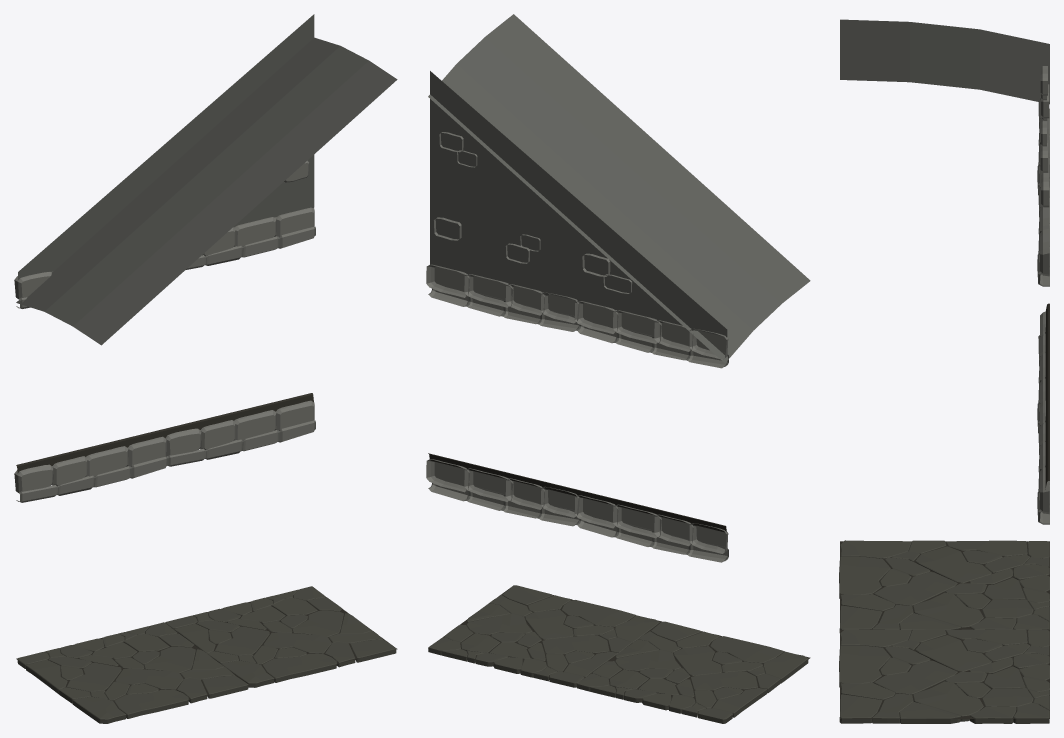
The model's file is Dungeon_Hall_Wall_Stairs_Left.glb.
3 views of the same model, side by side, from view 1: azimuth 30°, elevation 25°; view 2: azimuth 150°, elevation 25°; view 3: azimuth 270°, elevation 25° (orthographic). The views are drawn at different scales.
Parts seen in each view (by area): view 1: Dungeon_Hall_Wall_Stairs_Left.001; view 2: Dungeon_Hall_Wall_Stairs_Left.001; view 3: Dungeon_Hall_Wall_Stairs_Left.001.
Boxes of the visible parts, bbox=[...] form: Dungeon_Hall_Wall_Stairs_Left.001: bbox=[14, 14, 397, 723]; Dungeon_Hall_Wall_Stairs_Left.001: bbox=[426, 14, 810, 723]; Dungeon_Hall_Wall_Stairs_Left.001: bbox=[839, 19, 1049, 723].
Size of the model in its own units: 8.1 by 14.93 by 4.02.
Materials: 2 (2 with a texture image).
